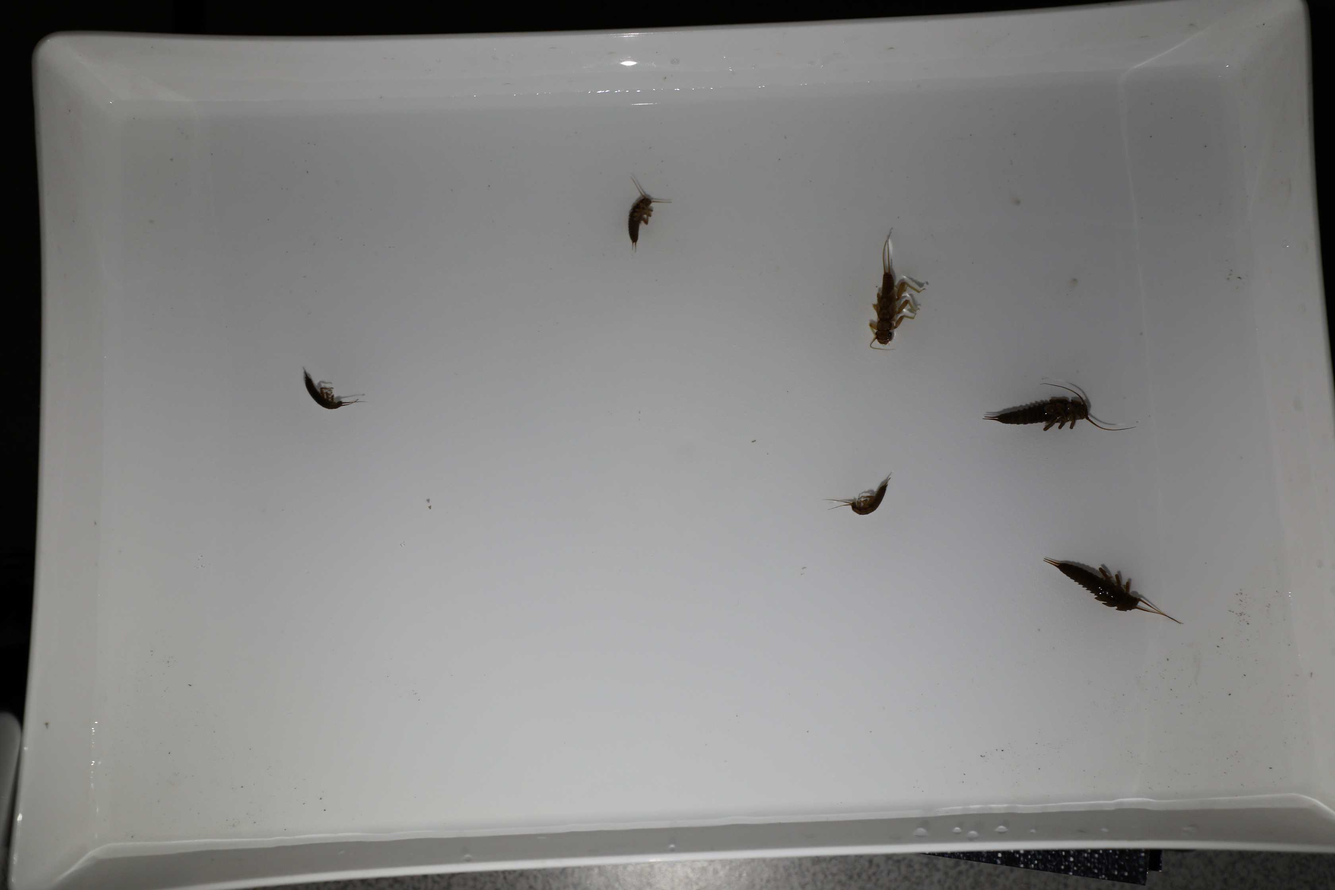Stonefly: (1044, 556, 1182, 626), (982, 380, 1134, 434), (864, 226, 920, 352), (616, 168, 674, 251), (299, 367, 360, 416), (834, 476, 890, 525)
